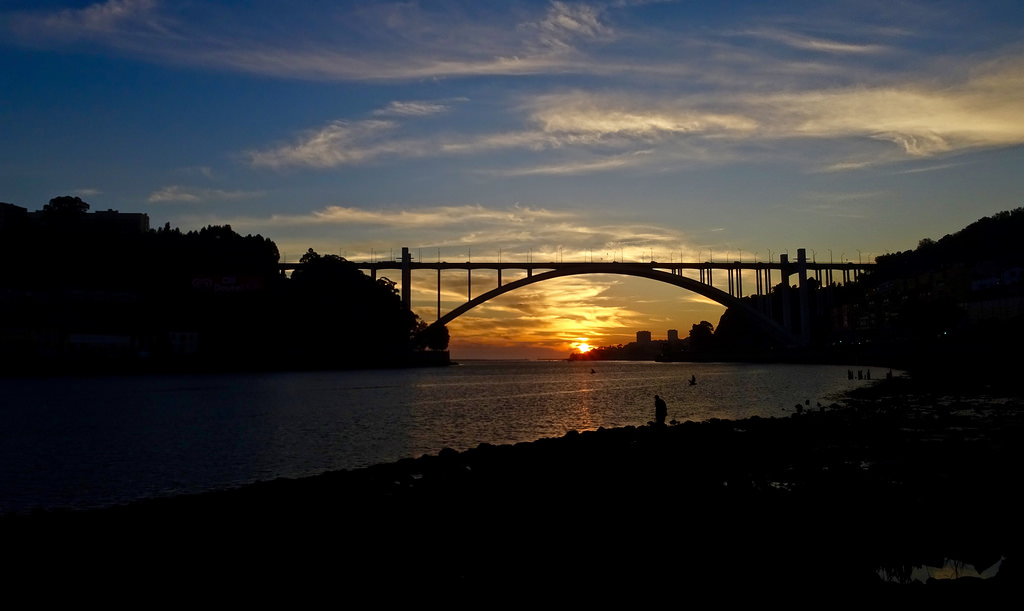arrabida: (283, 246, 879, 334)
